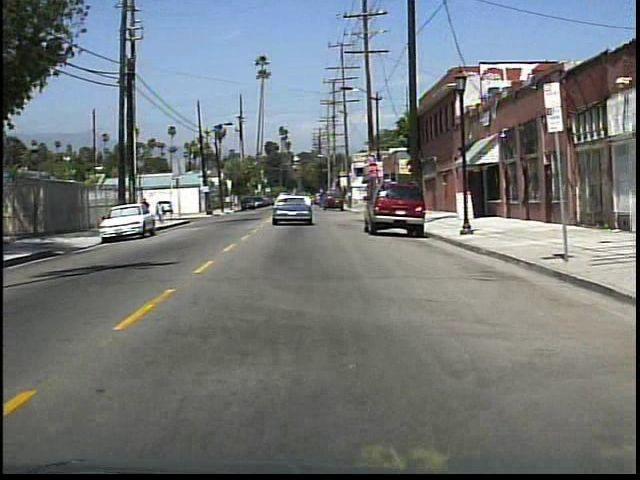person: (138, 195, 154, 227), (154, 198, 168, 225)
